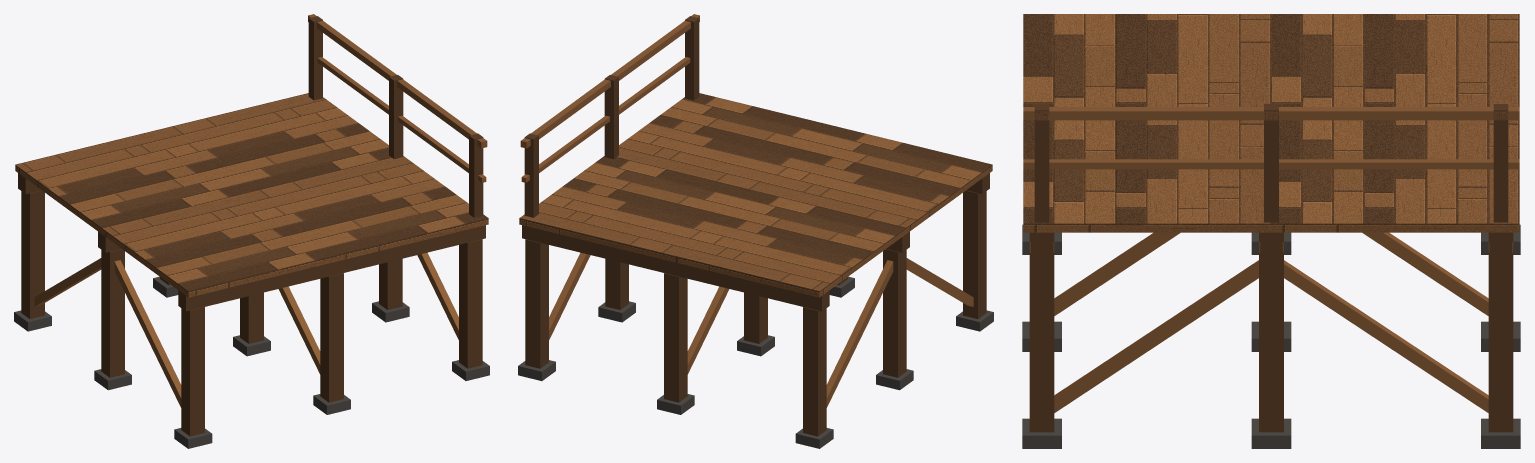
File: mine_platform.glb
3 renders of one model, left to right at view 1: azimuth 30°, elevation 25°; view 2: azimuth 150°, elevation 25°; view 3: azimuth 270°, elevation 25°, orthographic. The views are drawn at different scales.
Parts seen in each view (by area): view 1: mine_platform; view 2: mine_platform; view 3: mine_platform.
Part boxes in pixels (<box>): mine_platform: <box>14,14,489,448</box>; mine_platform: <box>518,14,993,448</box>; mine_platform: <box>1022,14,1520,448</box>.
Size of what is drawn, in the model's own units: 4.02 by 3 by 4.02.
Materials: 4 (1 with a texture image).
